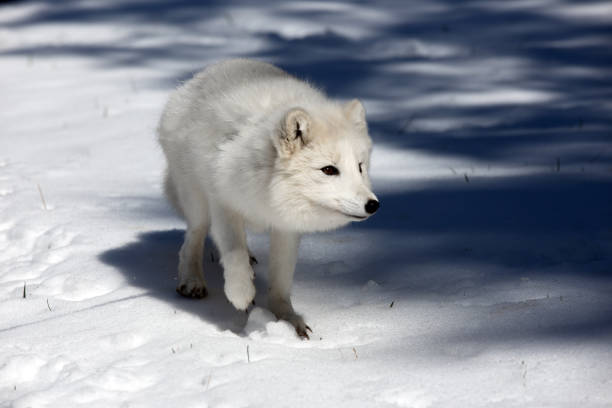arcticfox: (278, 106, 383, 237)
